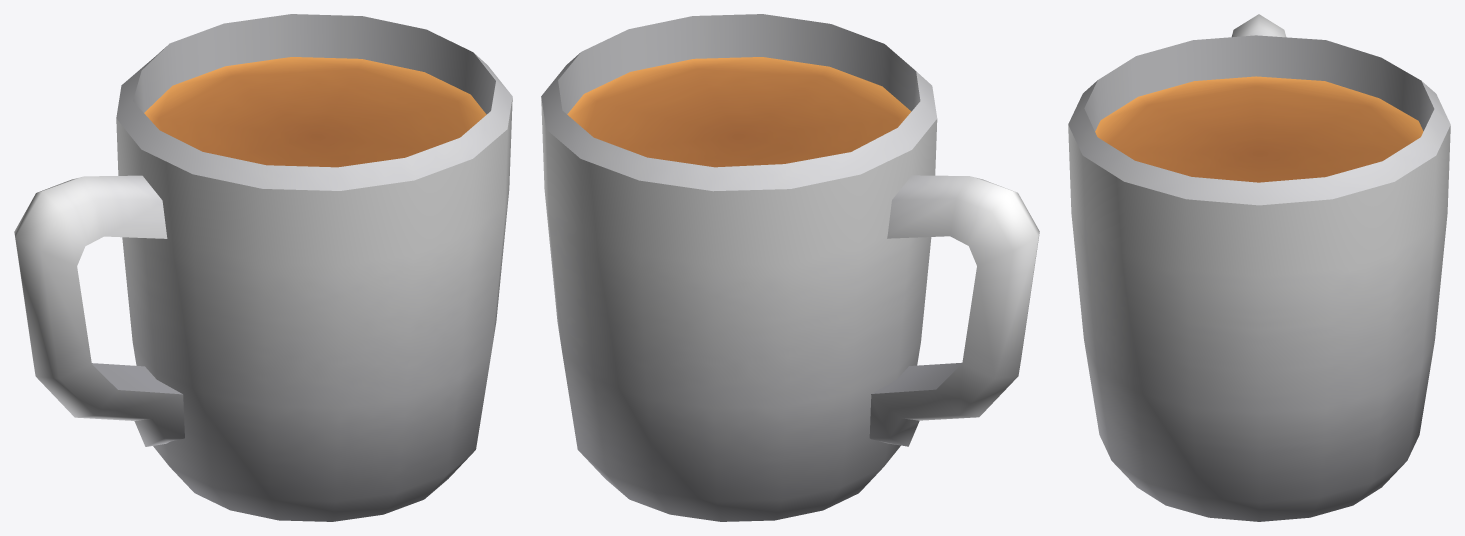
File: m_Mug01_Coffee05.fbx
3 views of the same model, side by side, from view 1: azimuth 30°, elevation 25°; view 2: azimuth 150°, elevation 25°; view 3: azimuth 270°, elevation 25° (orthographic). The views are drawn at different scales.
Parts seen in each view (by area): view 1: m_Mug01_Coffee05; view 2: m_Mug01_Coffee05; view 3: m_Mug01_Coffee05.
Boxes of the visible parts, x1,y1,x2,y2 form: m_Mug01_Coffee05: (14,14,512,521); m_Mug01_Coffee05: (541,14,1039,521); m_Mug01_Coffee05: (1068,14,1450,521).
Size of the model in its own units: 15.22 by 11.5 by 11.16.
